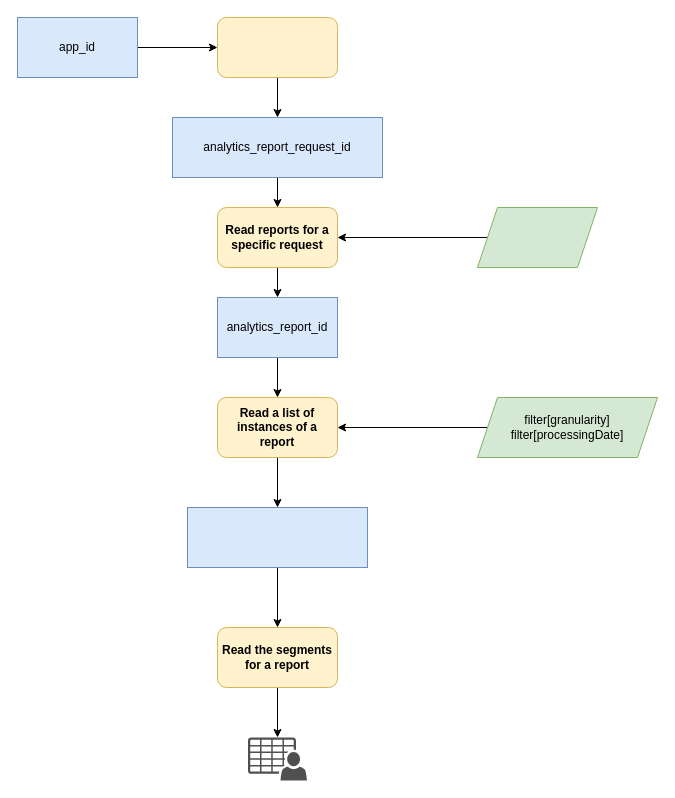
Image size: 675x798. Some labels were removed from this diagram. The shapes that lost their labels are listed below. From the top down, each one's centre as x and y in pixels, then its label:
point (277, 47): Read report requests
point (537, 237): filter[category] filter[name]
point (277, 537): analytics_report_instance_id
